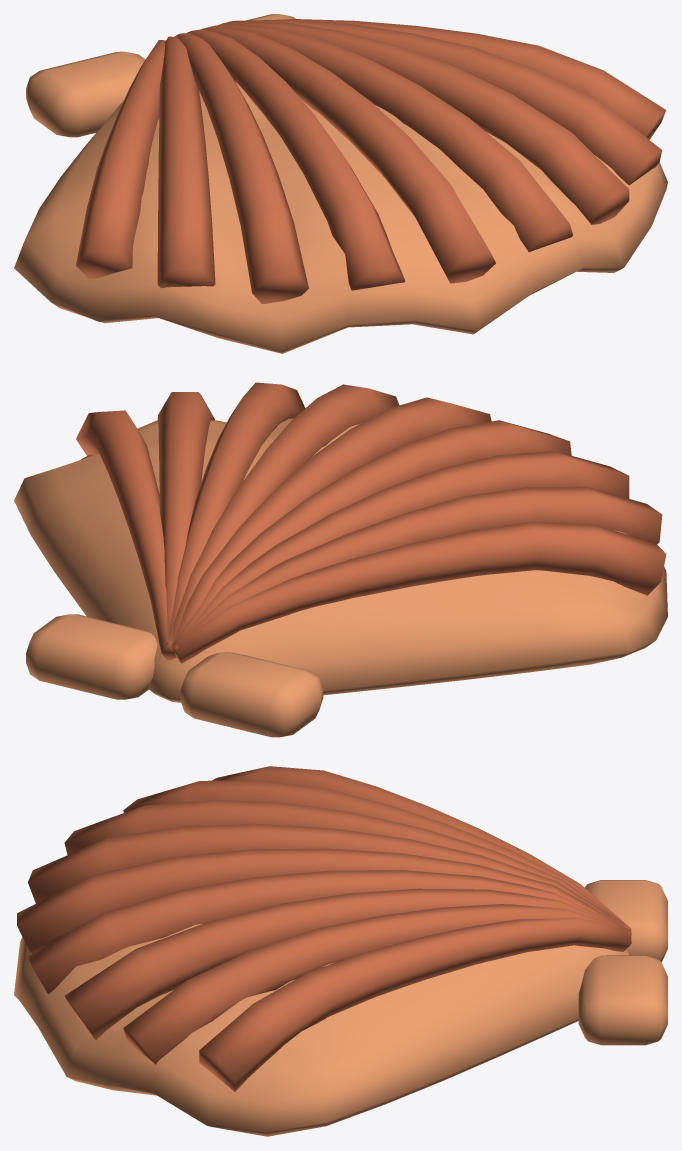
Rendered from sea-scallop.glb.
3 views of the same model, one above another, from view 1: azimuth 30°, elevation 25°; view 2: azimuth 150°, elevation 25°; view 3: azimuth 270°, elevation 25° (orthographic).
Visible parts, largest first — view 1: shell; view 2: shell; view 3: shell.
Part boxes in pixels (bbox=[...]): shell: bbox=[14, 14, 667, 353]; shell: bbox=[14, 382, 667, 737]; shell: bbox=[14, 766, 667, 1136].
Bounding box in the file's own units: 0.2496 × 0.0638 × 0.2285.
